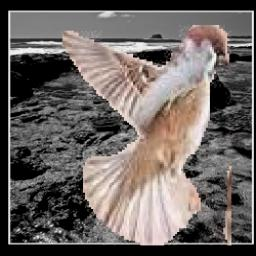Sparrow: (61, 25, 231, 245)
